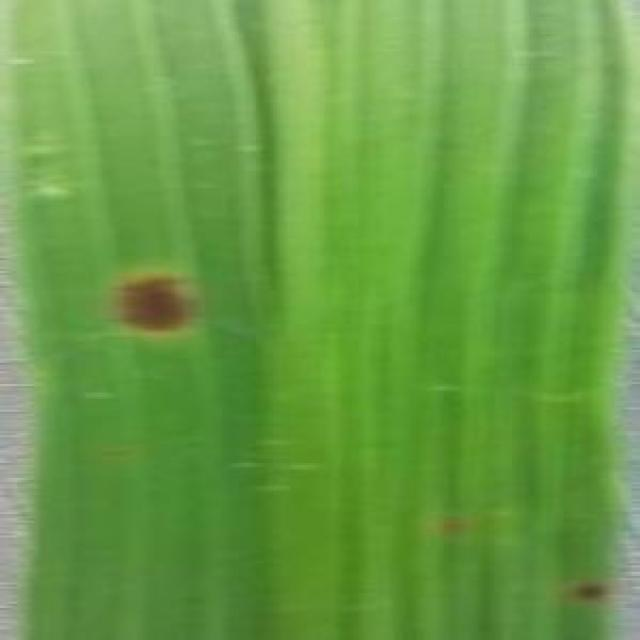Brown_Spot: (110, 266, 204, 346), (575, 564, 611, 618)
